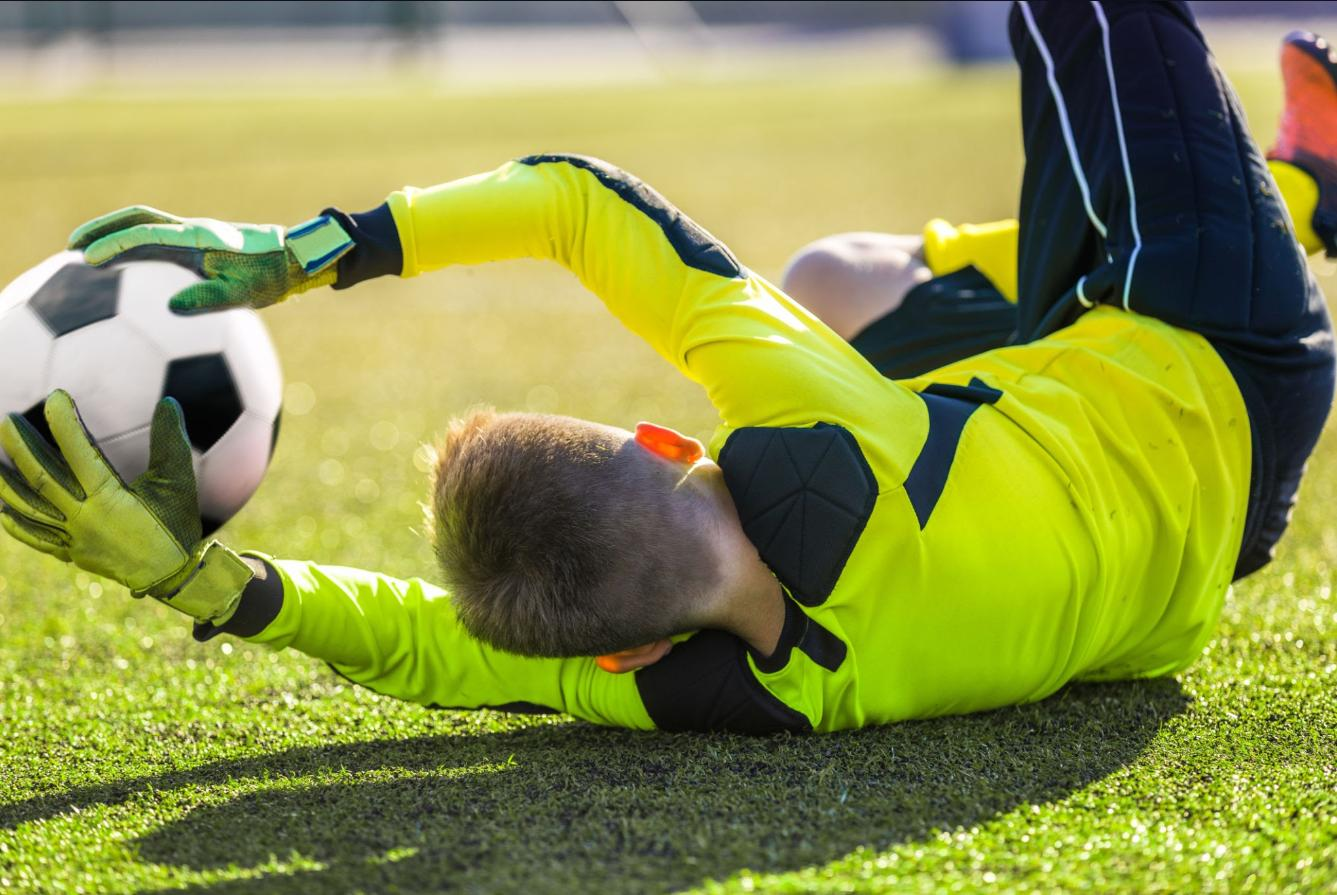ball: (0, 202, 290, 586)
goalkeeper: (0, 0, 1337, 797)
